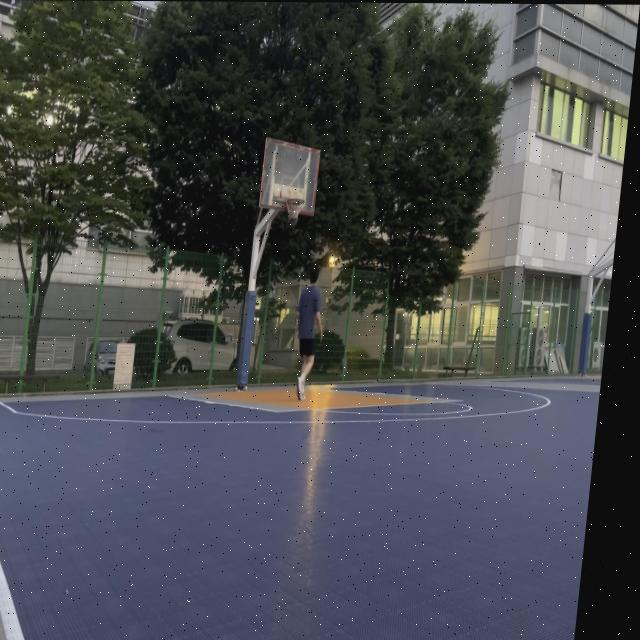basketball: (287, 207, 299, 225)
hoop: (284, 198, 305, 226), (284, 199, 305, 226)
